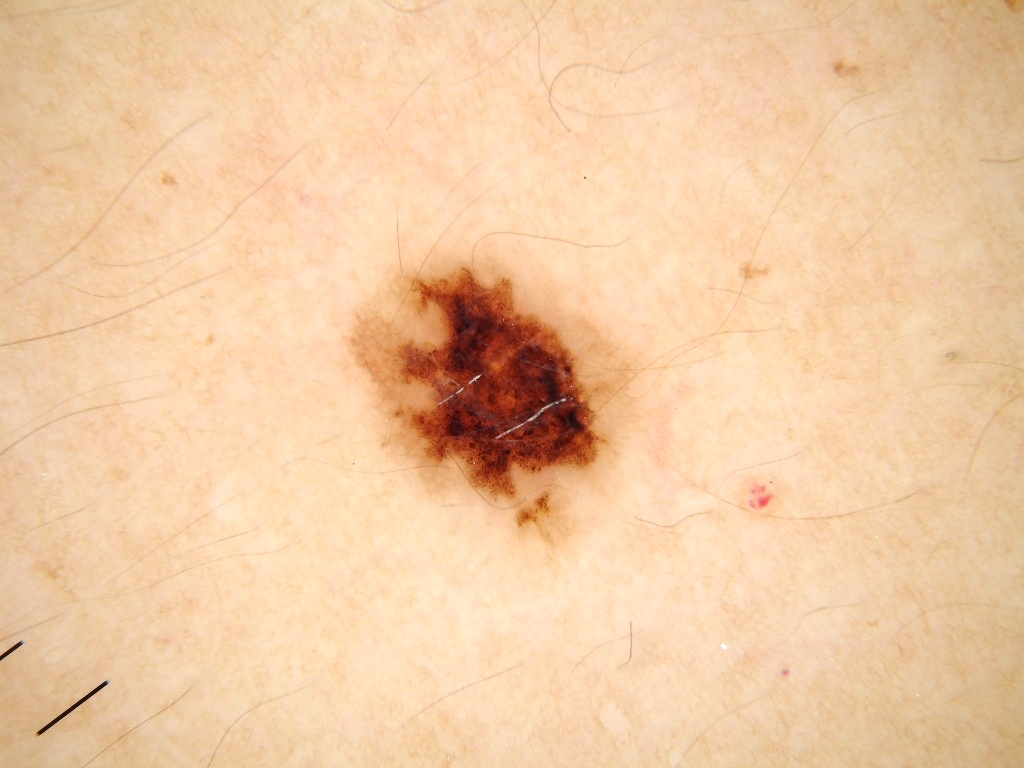Detected Lesion: (341, 264, 617, 539)
